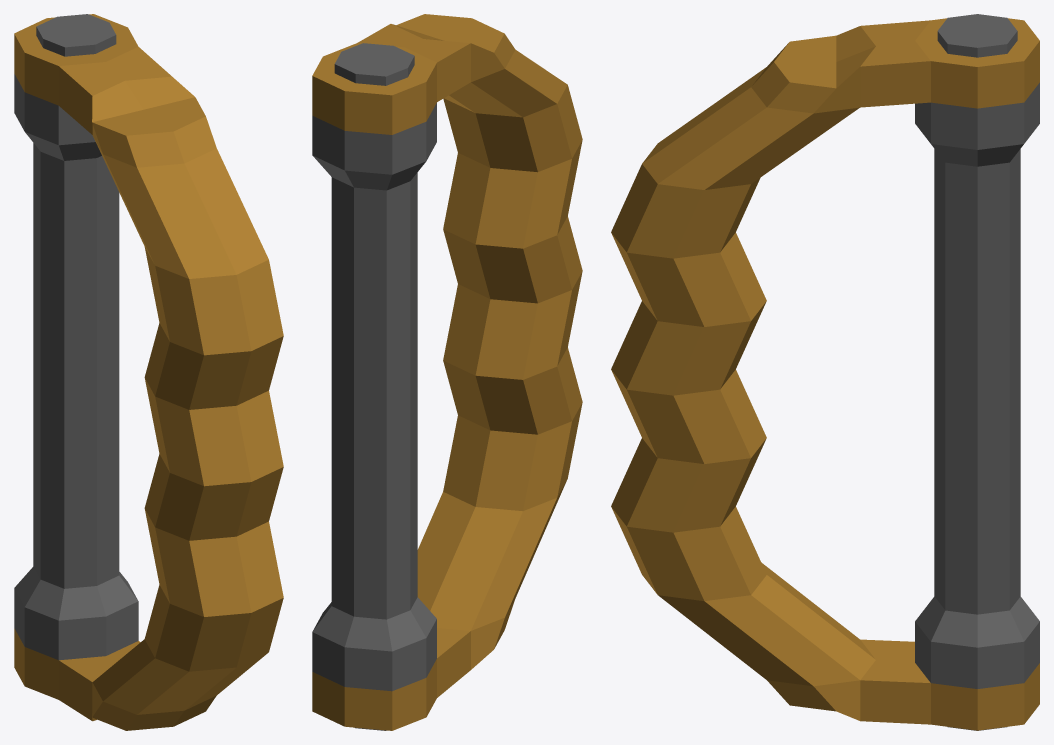
File: BrassKnuckles.fbx
3 renders of one model, left to right at view 1: azimuth 30°, elevation 25°; view 2: azimuth 150°, elevation 25°; view 3: azimuth 270°, elevation 25°, orthographic. The views are drawn at different scales.
Visible parts, largest first — view 1: BrassKnuckles; view 2: BrassKnuckles; view 3: BrassKnuckles.
Boxes of the visible parts, x1,y1,x2,y2 form: BrassKnuckles: (14, 14, 283, 730); BrassKnuckles: (312, 14, 582, 730); BrassKnuckles: (611, 14, 1039, 730).
Bounding box in the file's own units: 20.37 × 123 × 69.97.
